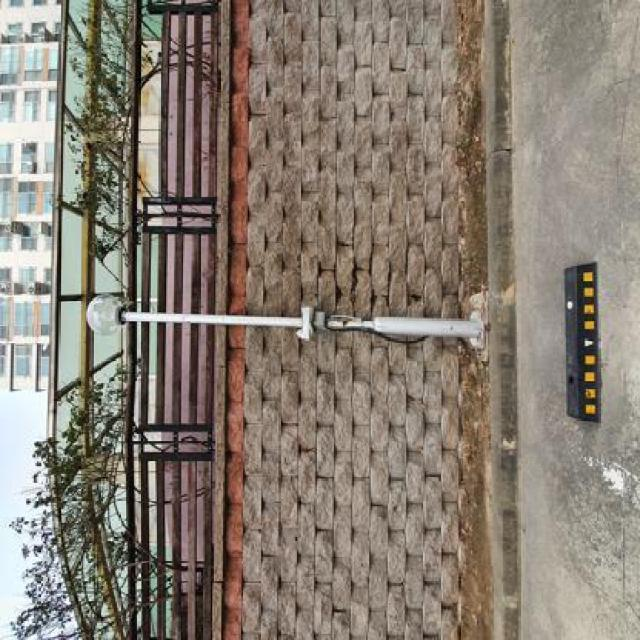bump: (556, 244, 629, 429)
pole: (77, 291, 491, 358)
